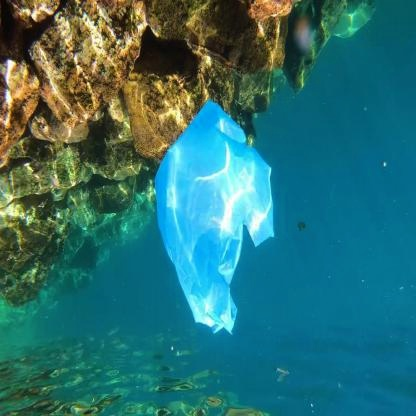pbag: (146, 93, 278, 340)
